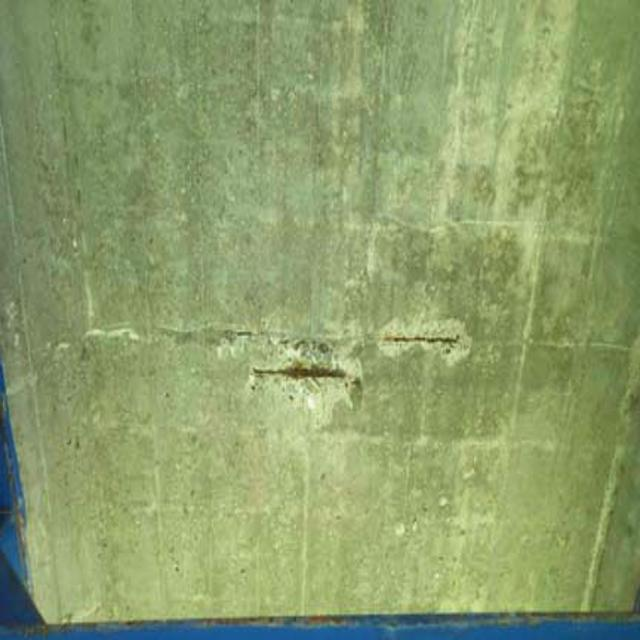spalling: (227, 286, 483, 460)
